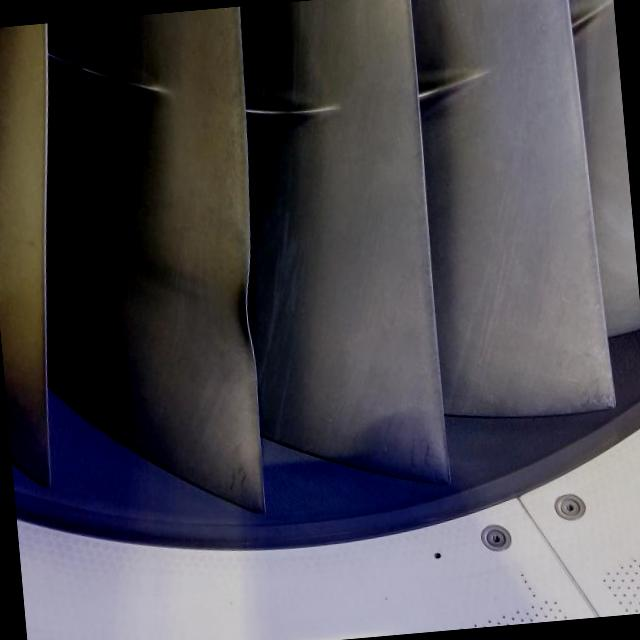dent: (217, 251, 269, 370)
